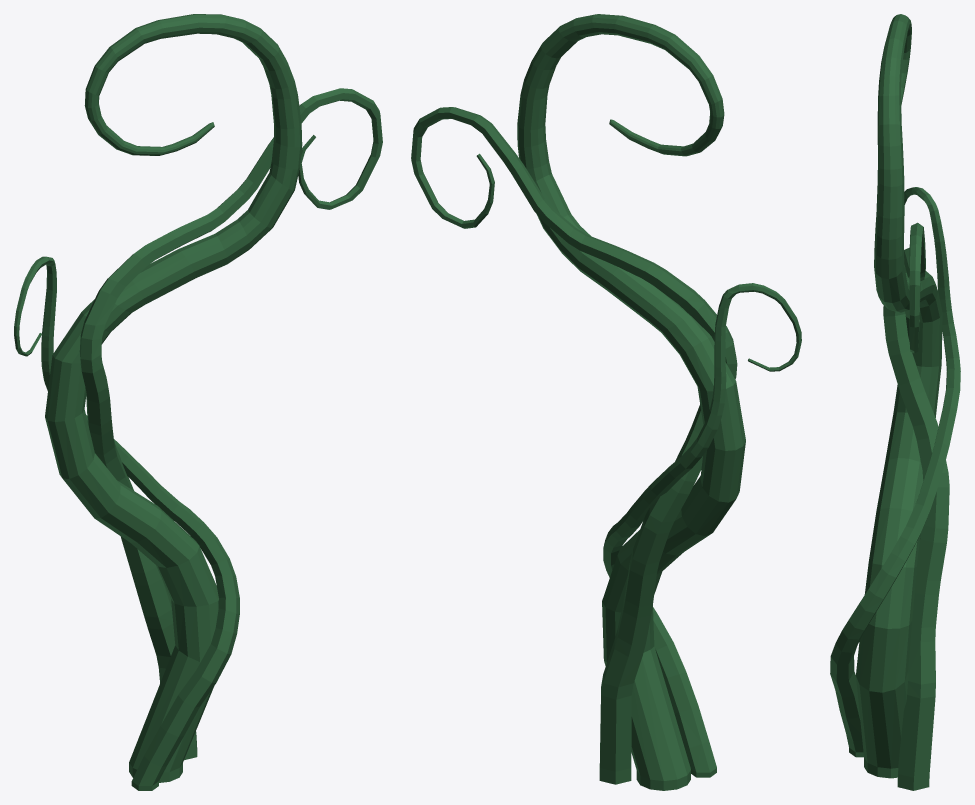
Rendered from Vine.fbx.
3 views of the same model, side by side, from view 1: azimuth 30°, elevation 25°; view 2: azimuth 150°, elevation 25°; view 3: azimuth 270°, elevation 25° (orthographic).
Visible parts, largest first — view 1: Vine; view 2: Vine; view 3: Vine.
Boxes of the visible parts, left/top/right/bottom form: Vine: left=14, top=14, right=382, bottom=790; Vine: left=411, top=14, right=801, bottom=790; Vine: left=830, top=14, right=960, bottom=790.
Bounding box in the file's own units: 66.16 × 125 × 19.76.
